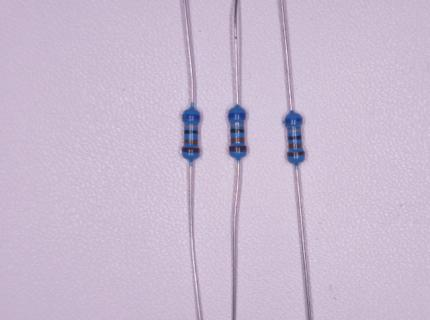Black band: (287, 135, 302, 141), (230, 129, 245, 134), (184, 130, 198, 135)
Blue band: (284, 117, 303, 125), (182, 114, 200, 121), (228, 113, 246, 118)
Brown band: (182, 146, 199, 154), (229, 145, 247, 152), (287, 151, 305, 157)
Grey band: (230, 122, 245, 128), (184, 124, 199, 129), (287, 129, 302, 134)
Orange band: (184, 139, 198, 146), (288, 143, 303, 149), (230, 137, 245, 143)
